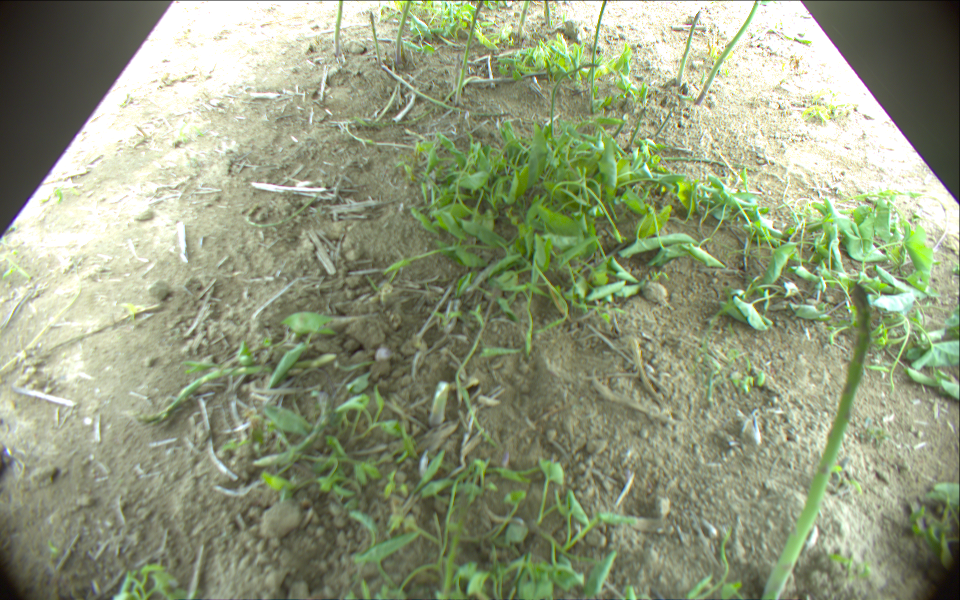aspa: (762, 282, 870, 600), (134, 351, 336, 426), (378, 61, 510, 116), (694, 1, 759, 106), (547, 61, 600, 150), (381, 64, 466, 110), (456, 1, 486, 106), (589, 1, 609, 113), (676, 11, 700, 87), (428, 380, 449, 431), (395, 1, 411, 66), (628, 106, 647, 153), (654, 108, 676, 142), (370, 11, 381, 65), (333, 1, 343, 56), (517, 1, 529, 46), (542, 1, 552, 28), (399, 38, 408, 64)
